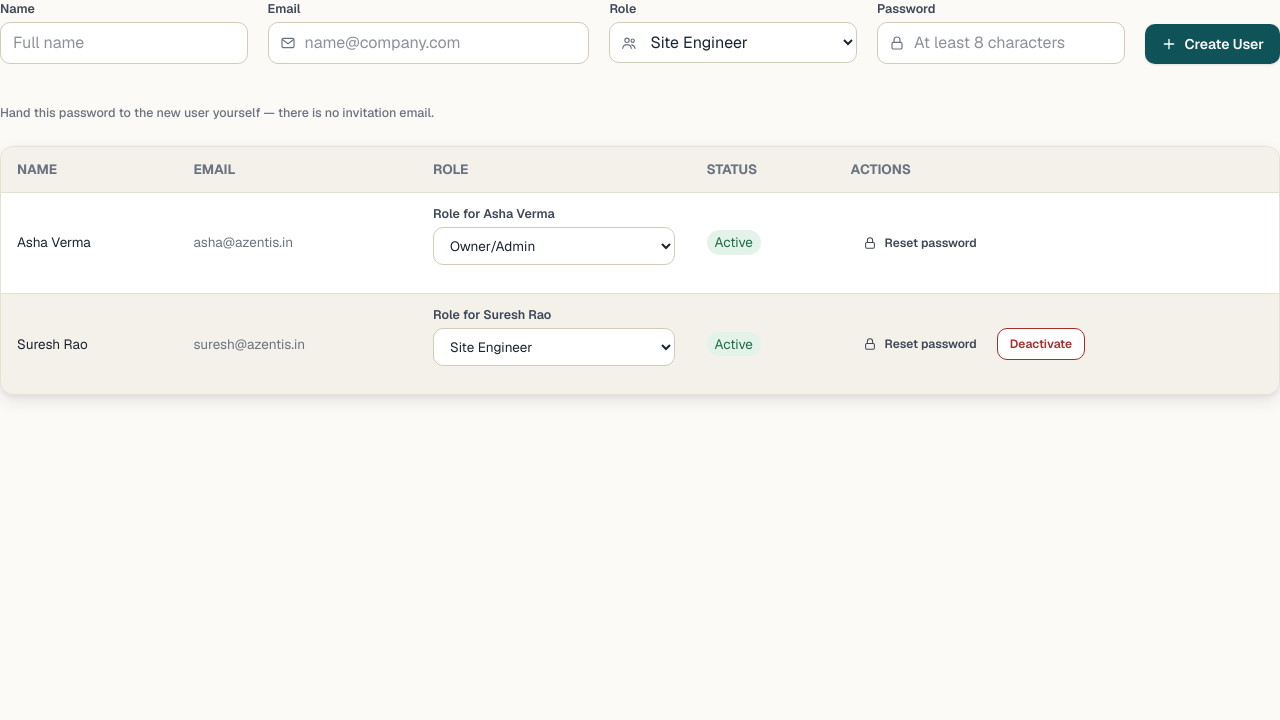
Test case: UsersRolesSection admin actions › resets a password through the dialog, validating with the shared schema first
Click the button "Reset password" in the row of "suresh@azentis.in" at point(920, 344), box [851,328,989,360]
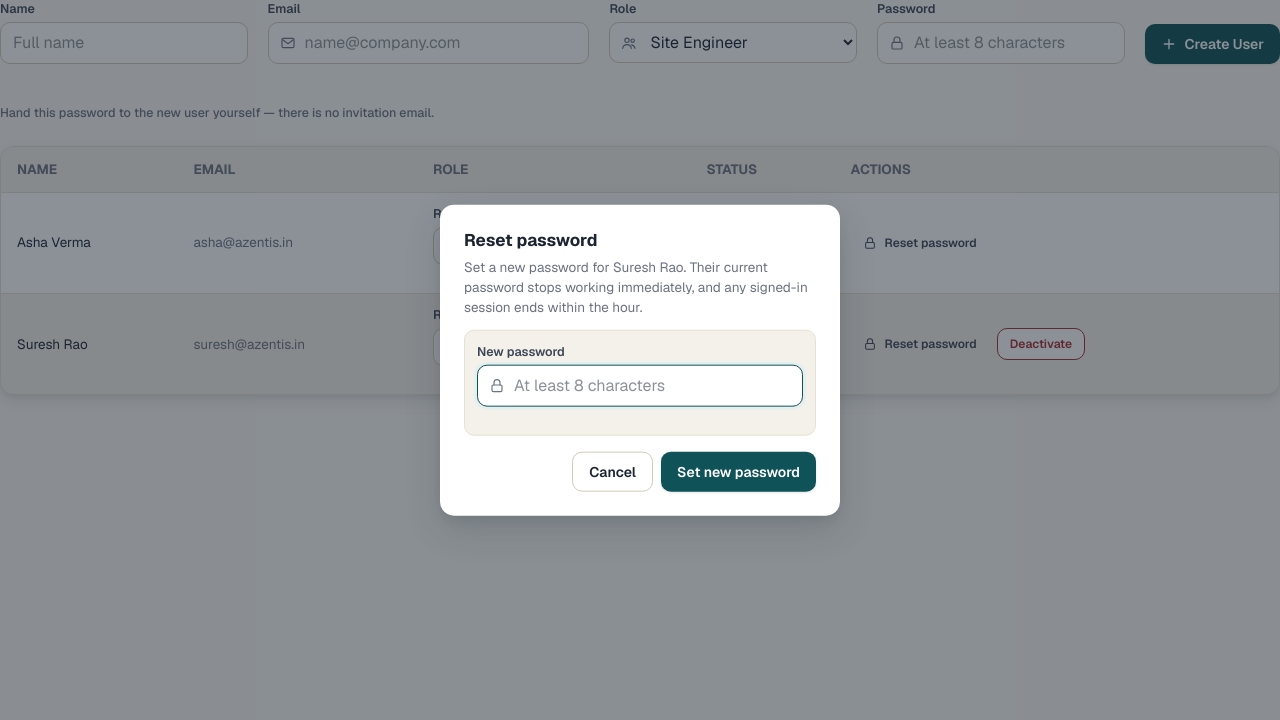
// Too short → inline schema error, no network call.
Type "short" into the password field labelled "New password" at point(640, 385), box [477,364,803,406]
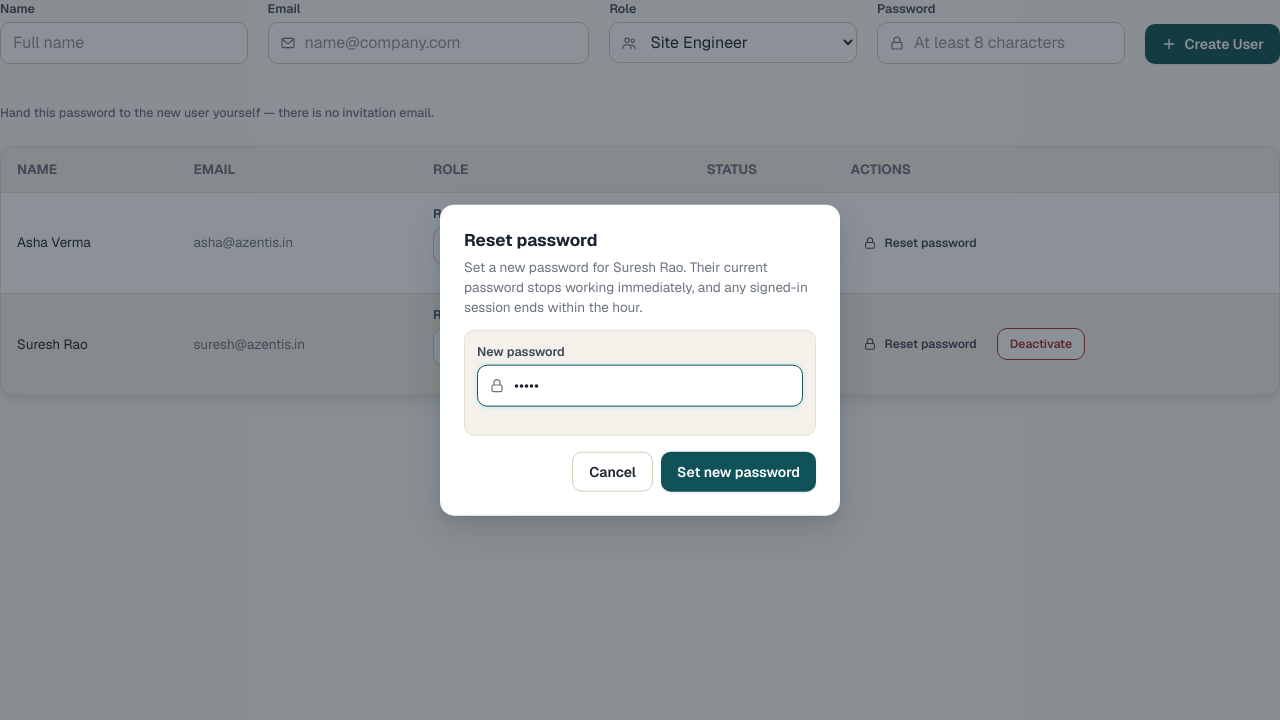
Click the button "Set new password" at point(738, 471), box [661,451,816,491]
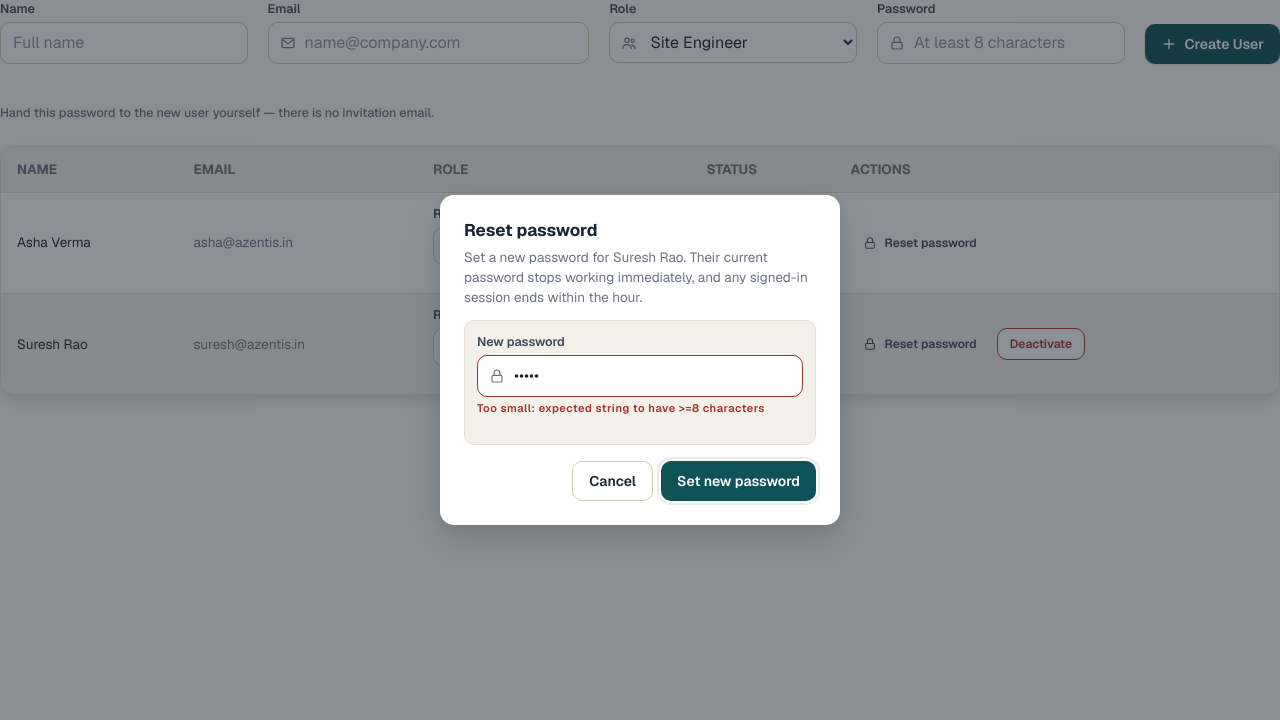
expect the text "Too small: expected string to have >=8 characters" is shown: met, box [477,401,803,416]
Clear the password field labelled "New password" at point(640, 376), box [477,355,803,397]
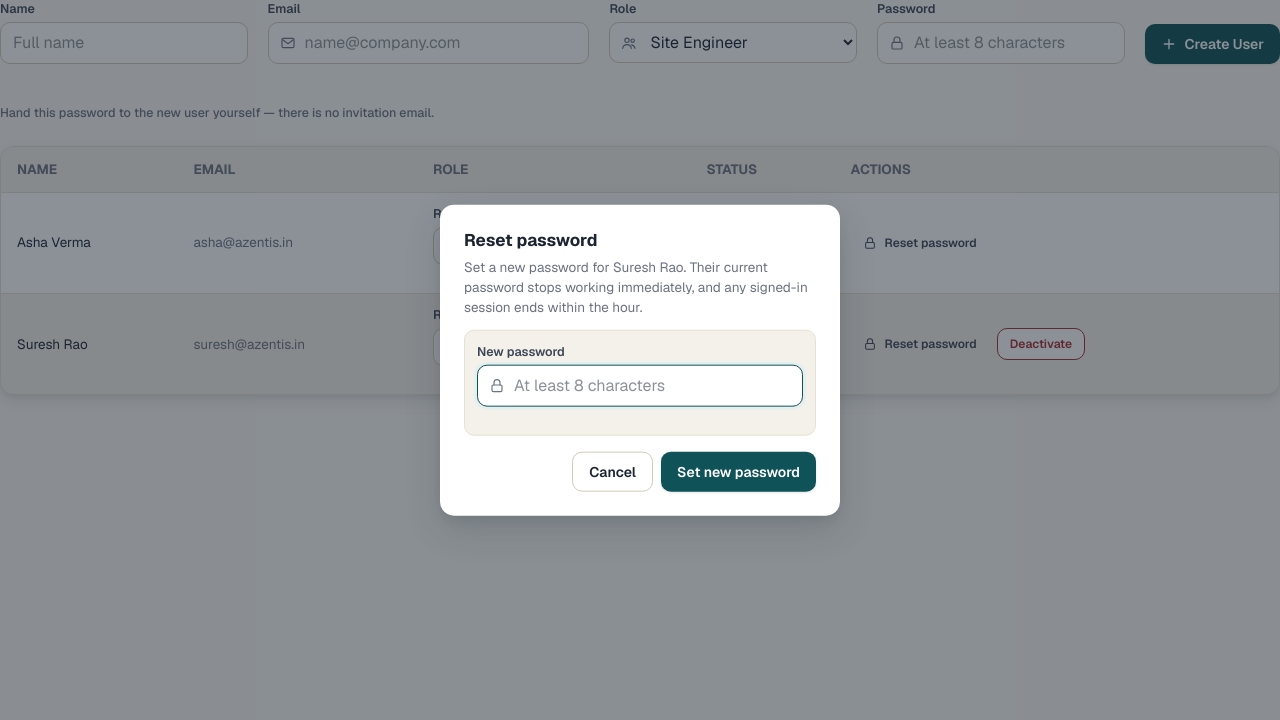
Type "a-strong-password" into the password field labelled "New password" at point(640, 385), box [477,364,803,406]
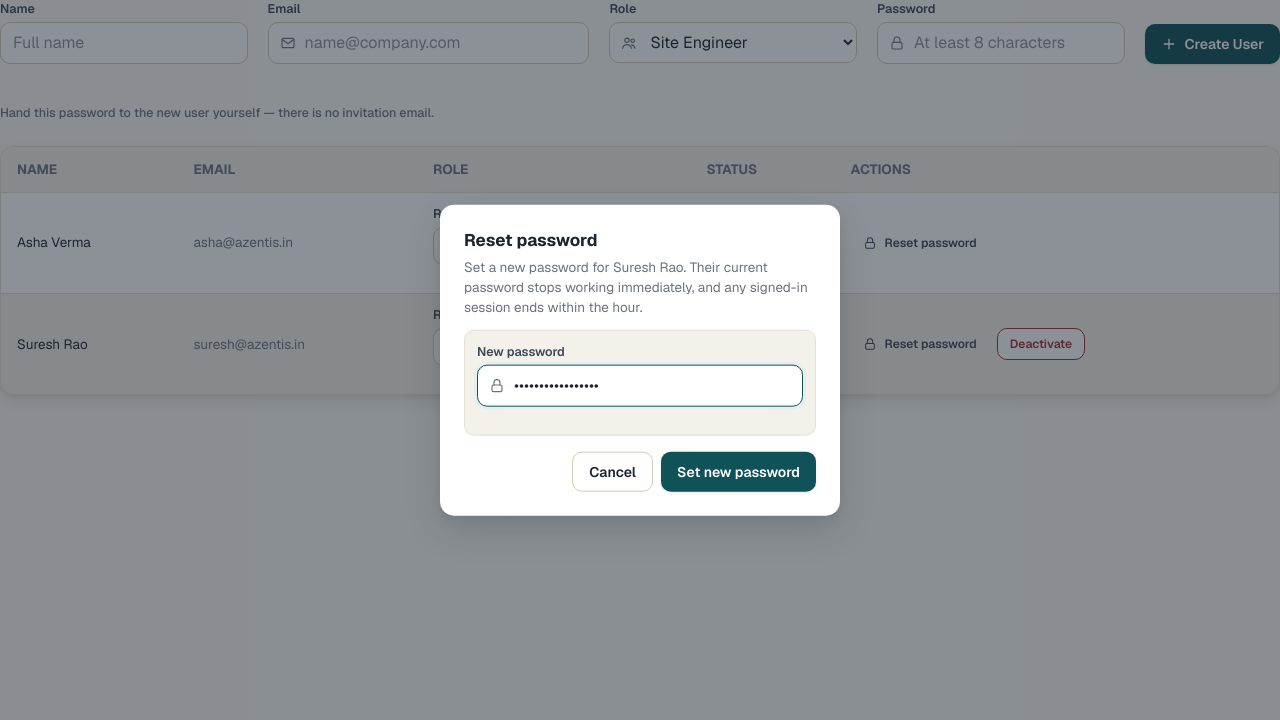
Click the button "Set new password" at point(738, 471), box [661,451,816,491]
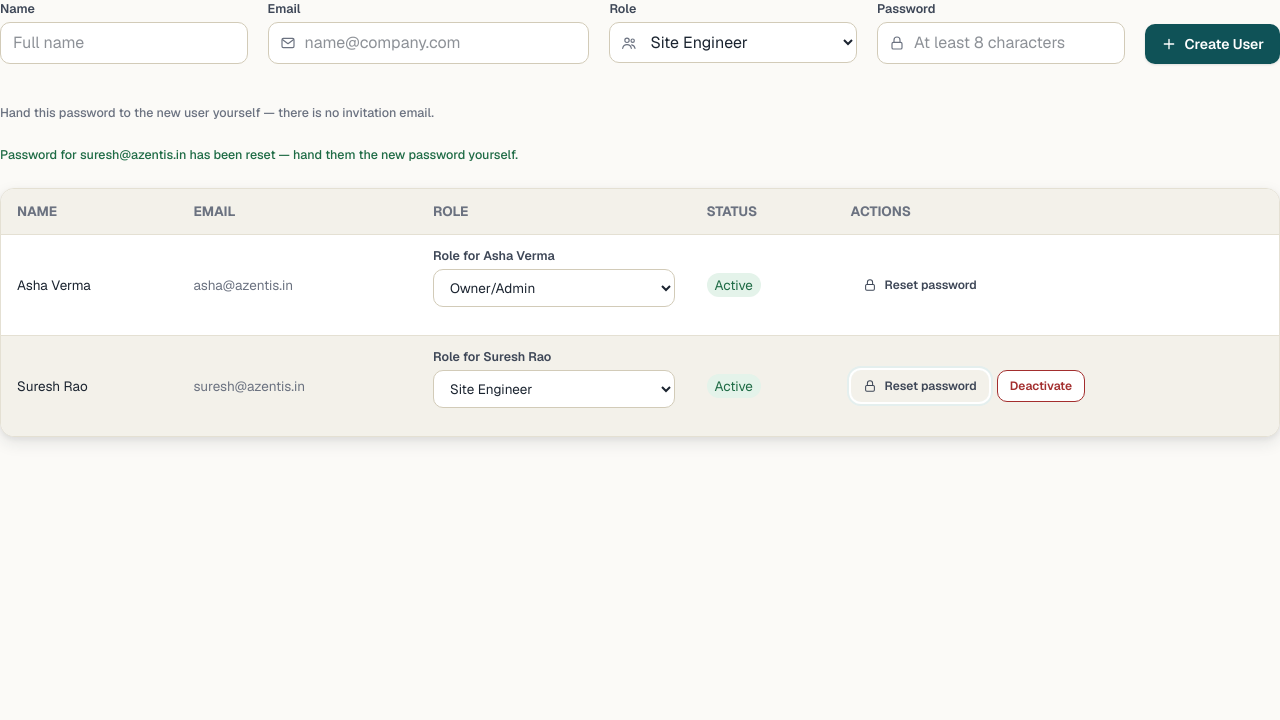
expect the dialog is gone: met
expect the text "Password for suresh@azentis.in has been reset" is shown: met, box [0,146,518,163]
